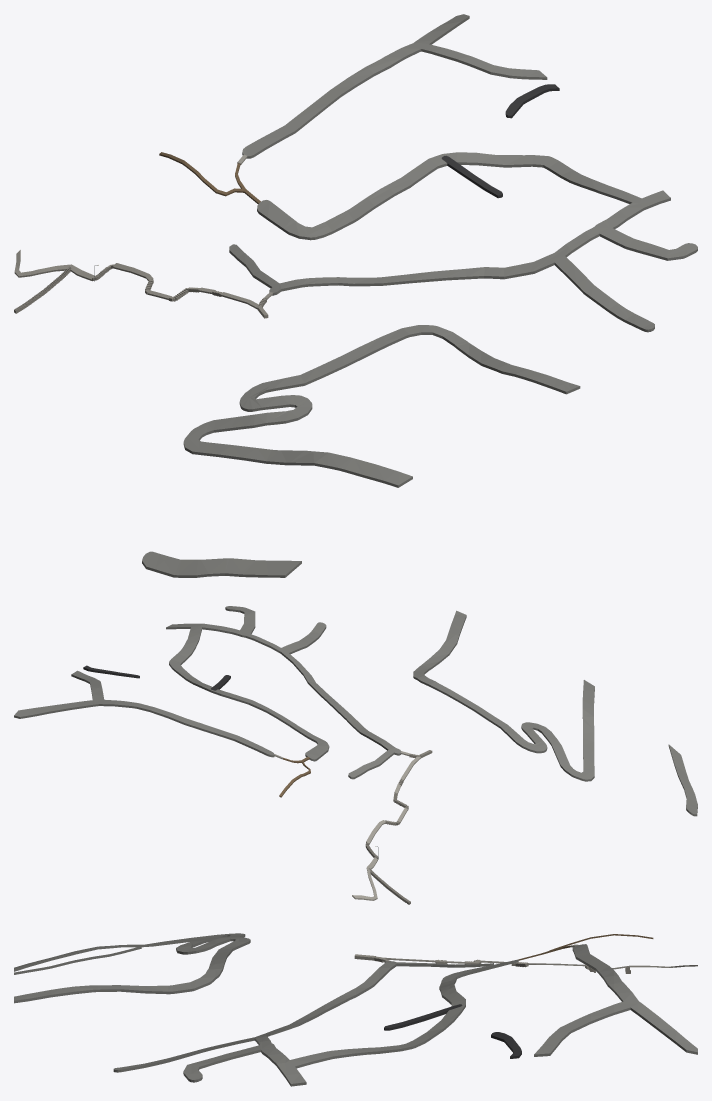
3 views of the same model, one above another, from view 1: azimuth 30°, elevation 25°; view 2: azimuth 150°, elevation 25°; view 3: azimuth 270°, elevation 25° (orthographic). The views are drawn at different scales.
Bounding box in the file's own units: 293 × 97.3 × 292.
